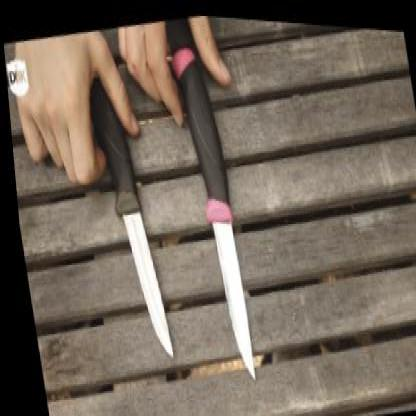knife: (52, 96, 175, 377), (188, 144, 260, 388)
